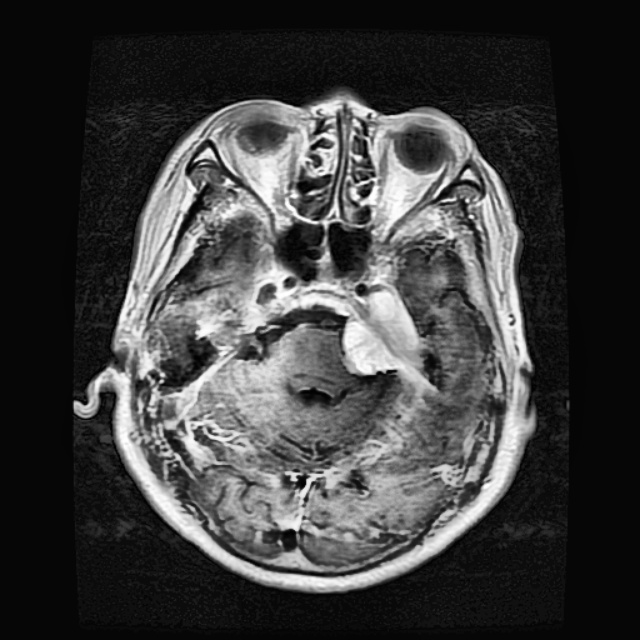Glioma: (343, 290, 419, 377)
